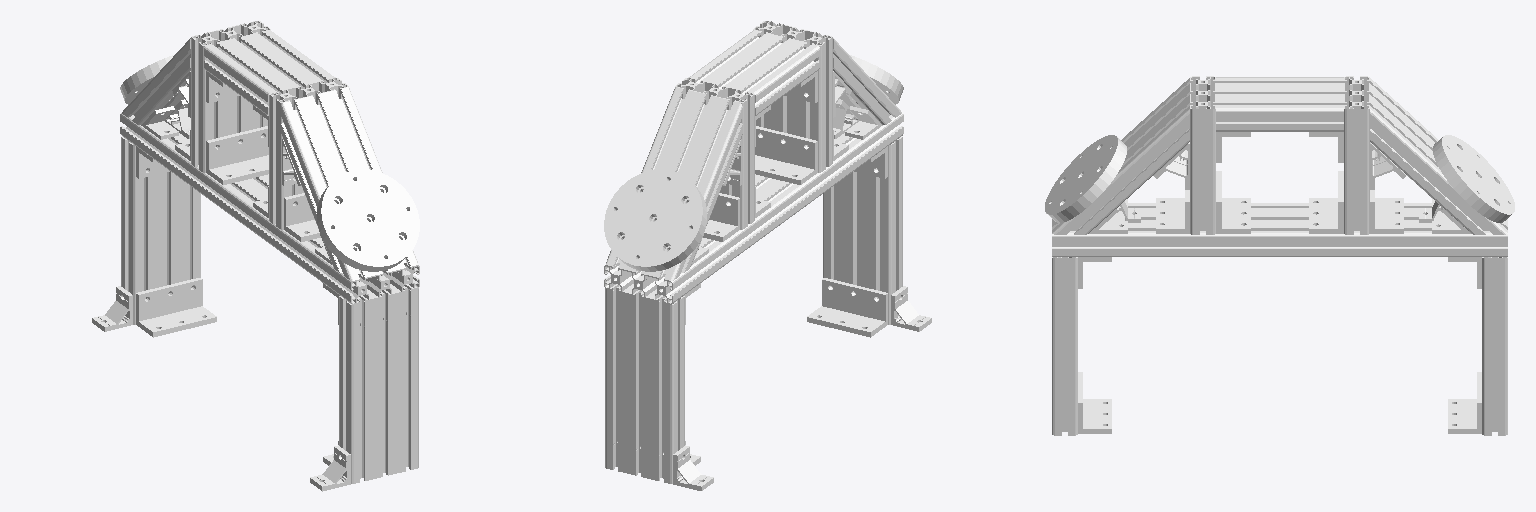
URDF robot description (frame):
<?xml version="1.0" encoding="utf-8"?>
<!-- This URDF was automatically created by SolidWorks to URDF Exporter! Originally created by [author] ([email redacted]) 
     Commit Version: 1.5.1-0-g916b5db  Build Version: 1.5.7152.31018
     For more information, please see http://wiki.ros.org/sw_urdf_exporter -->
<robot
  name="frame">
  <link name="basef_link" />
  <joint name="basef_joint" type="fixed">
    <parent link="basef_link" />
    <child link="frame_link" />
    <origin xyz="0 0 0" rpy="0 0 0"/>
  </joint>


   <link
    name="frame_link">
    <inertial>
      <origin
        xyz="5.78026897381369E-05 -0.33861916546703 0.000395324389703199"
        rpy="-1.5708 0 1.5708" />
      <mass
        value="10.5685383554963" />
      <inertia
        ixx="0.0435712998080926"
        ixy="-2.98299886391108E-08"
        ixz="1.99151151521228E-08"
        iyy="0.131287379245747"
        iyz="-6.75667263234967E-06"
        izz="0.147347100303717" />
    </inertial>
    <visual>
      <origin
        xyz="0 0 0"
        rpy="-1.5708 0 1.5708" />
      <geometry>
        <mesh
          filename="package://betago_description/meshes/frame_link.STL" />
      </geometry>
      <material
        name="">
        <color
          rgba="1 1 1 1" />
      </material>
    </visual>
    <collision>
      <origin
        xyz="0 0 0"
        rpy="0 0 0" />
      <geometry>
        <mesh
          filename="package://betago_description/meshes/frame_link.STL" />
      </geometry>
    </collision>
  </link>
  <link
    name="connect_Link">
    <inertial>
      <origin
        xyz="-2.99217641515819E-15 0.0100625141067177 -1.55431223447522E-15"
        rpy="0 0 0" />
      <mass
        value="0.388684361906885" />
      <inertia
        ixx="0.000636425749580159"
        ixy="7.47498207053617E-19"
        ixz="-3.11178702787472E-20"
        iyy="0.00124694224633402"
        iyz="-1.16551733542192E-18"
        izz="0.00063642574958016" />
    </inertial>
    <visual>
      <origin
        xyz="0 0 0"
        rpy="0 0 0" />
      <geometry>
        <mesh
          filename="package://betago_description/meshes/connect_Link.STL" />
      </geometry>
      <material
        name="">
        <color
          rgba="1 1 1 1" />
      </material>
    </visual>
    <collision>
      <origin
        xyz="0 0 0"
        rpy="0 0 0" />
      <geometry>
        <mesh
          filename="package://betago_description/meshes/connect_Link.STL" />
      </geometry>
    </collision>
  </link>
  <joint
    name="connect_joint"
    type="fixed">
    <origin
      xyz="0 -0.30475 0.41354"
      rpy="-0.7854 0 0" />
    <parent
      link="frame_link" />
    <child
      link="connect_Link" />
    <axis
      xyz="0 0 0" />
  </joint>
  <link
    name="connect2_Link">
    <inertial>
      <origin
        xyz="-2.90414121825462E-15 0.0100625141067187 -2.4980018054066E-16"
        rpy="0 0 0" />
      <mass
        value="0.388684361906885" />
      <inertia
        ixx="0.000636425749580159"
        ixy="3.13888285214542E-18"
        ixz="-2.31541182463055E-20"
        iyy="0.00124694224633402"
        iyz="1.24683249835833E-18"
        izz="0.000636425749580159" />
    </inertial>
    <visual>
      <origin
        xyz="0 0 0"
        rpy="0 0 0" />
      <geometry>
        <mesh
          filename="package://betago_description/meshes/connect2_Link.STL" />
      </geometry>
      <material
        name="">
        <color
          rgba="1 1 1 1" />
      </material>
    </visual>
    <collision>
      <origin
        xyz="0 0 0"
        rpy="0 0 0" />
      <geometry>
        <mesh
          filename="package://betago_description/meshes/connect2_Link.STL" />
      </geometry>
    </collision>
  </link>
  <joint
    name="connect2_jiont"
    type="fixed">
    <origin
      xyz="0 0.30475 0.41354"
      rpy="-2.3562 0 0" />
    <parent
      link="frame_link" />
    <child
      link="connect2_Link" />
    <axis
      xyz="0 0 0" />
  </joint>
</robot>

--- Render facts (derived) ---
3 views of the same robot in one strip: view 1: azimuth 30°, elevation 25°; view 2: azimuth 150°, elevation 25°; view 3: azimuth 270°, elevation 25° (orthographic).
Model frame with 4 links and 3 joints (3 fixed), rooted at basef_link, posed every joint at zero.
Links seen in each view (by area): view 1: frame_link, connect_Link, connect2_Link; view 2: frame_link, connect2_Link, connect_Link; view 3: frame_link, connect_Link, connect2_Link.
Boxes of the visible links, x1,y1,x2,y2 form: frame_link: (92, 21, 419, 491); connect_Link: (317, 169, 419, 271); connect2_Link: (120, 55, 173, 104); frame_link: (604, 21, 931, 490); connect2_Link: (604, 169, 706, 271); connect_Link: (850, 55, 903, 104); frame_link: (1052, 76, 1507, 435); connect_Link: (1045, 135, 1126, 222); connect2_Link: (1433, 135, 1514, 222).
Bounding box of the posed robot: 0.1899 × 0.7226 × 0.5521 m (x, y, z).
Meshes: 3 distinct files referenced, 3 mesh visuals loaded (3 binary STL).